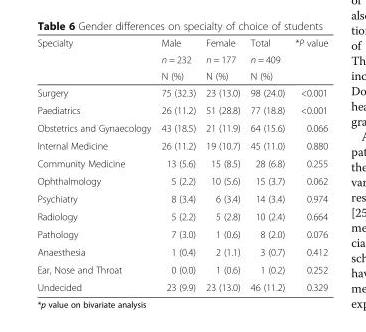table: (36, 36, 327, 292)
table column: (36, 36, 155, 292), (155, 36, 200, 292), (244, 36, 289, 292), (200, 36, 244, 292), (289, 36, 327, 292)
table column header: (36, 36, 327, 83)
table row: (36, 83, 327, 101), (36, 118, 327, 136), (36, 136, 327, 154), (36, 171, 327, 189), (36, 189, 327, 207), (36, 207, 327, 225), (36, 242, 327, 260), (36, 260, 327, 278), (36, 50, 327, 67), (36, 101, 327, 118), (36, 154, 327, 171), (36, 225, 327, 242), (36, 67, 327, 83), (36, 36, 327, 50), (36, 278, 327, 292)
table spanning cell: (36, 36, 155, 83), (155, 36, 200, 83), (244, 36, 289, 83), (200, 36, 244, 83), (289, 36, 327, 83)
